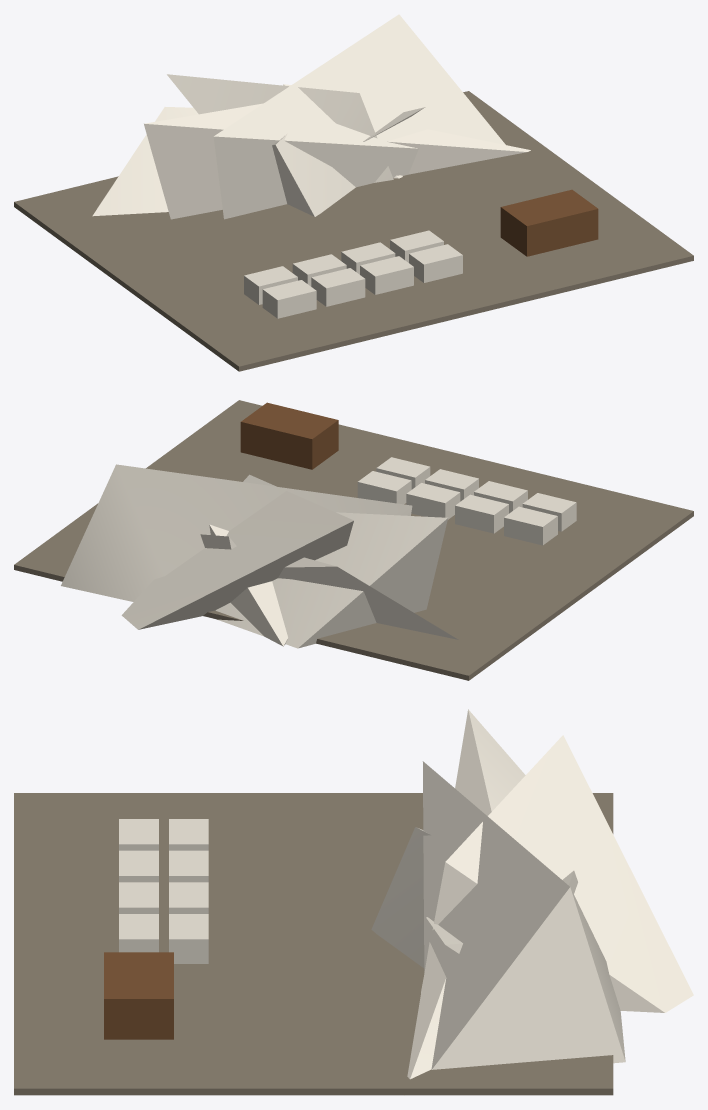
The model's file is quarry.glb.
3 renders of one model, top to bottom at view 1: azimuth 30°, elevation 25°; view 2: azimuth 150°, elevation 25°; view 3: azimuth 270°, elevation 25°, orthographic. The views are drawn at different scales.
Parts seen in each view (by area): view 1: Quarry; view 2: Quarry; view 3: Quarry.
Boxes of the visible parts, left/top/right/bottom form: Quarry: left=14, top=14, right=693, bottom=371; Quarry: left=14, top=400, right=693, bottom=680; Quarry: left=14, top=709, right=693, bottom=1095.
Bounding box in the file's own units: 14.01 × 3.38 × 13.61.
